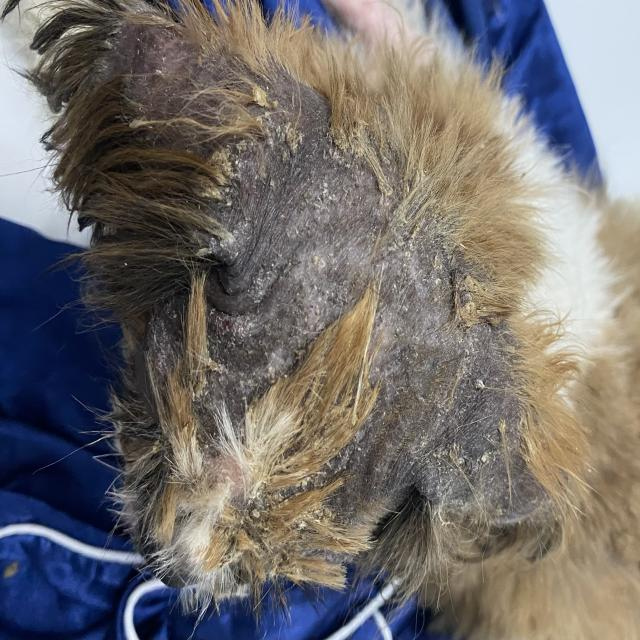demodicosis: (216, 82, 384, 369), (405, 268, 509, 504)
